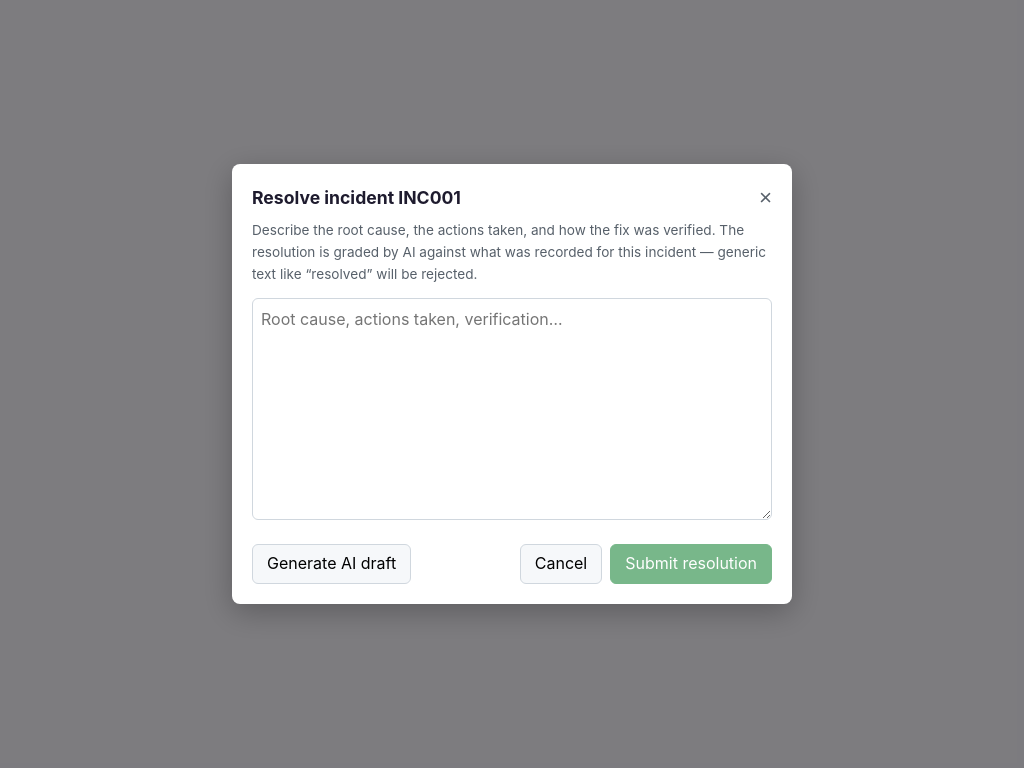
ResolutionModal › shows grade feedback and stays open when the resolution fails grading
In the text box named "Resolution text": point(512, 409) [252,298,772,520], type "resolved"
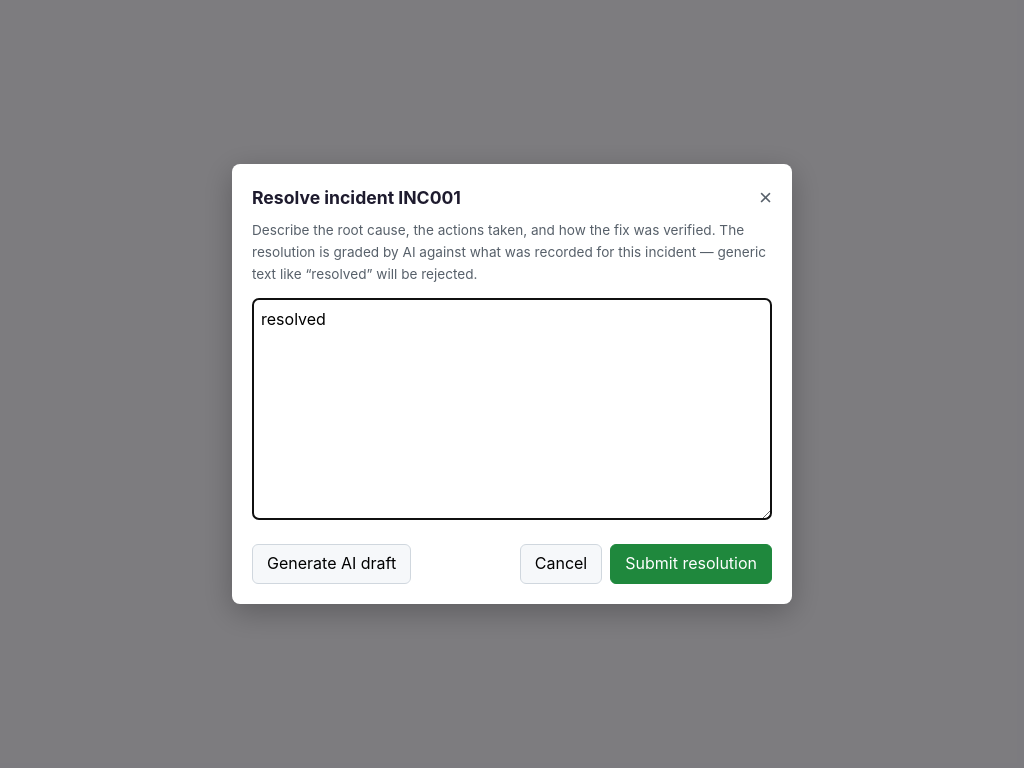
Click the button "Submit resolution": point(691, 564) [610,544,772,584]
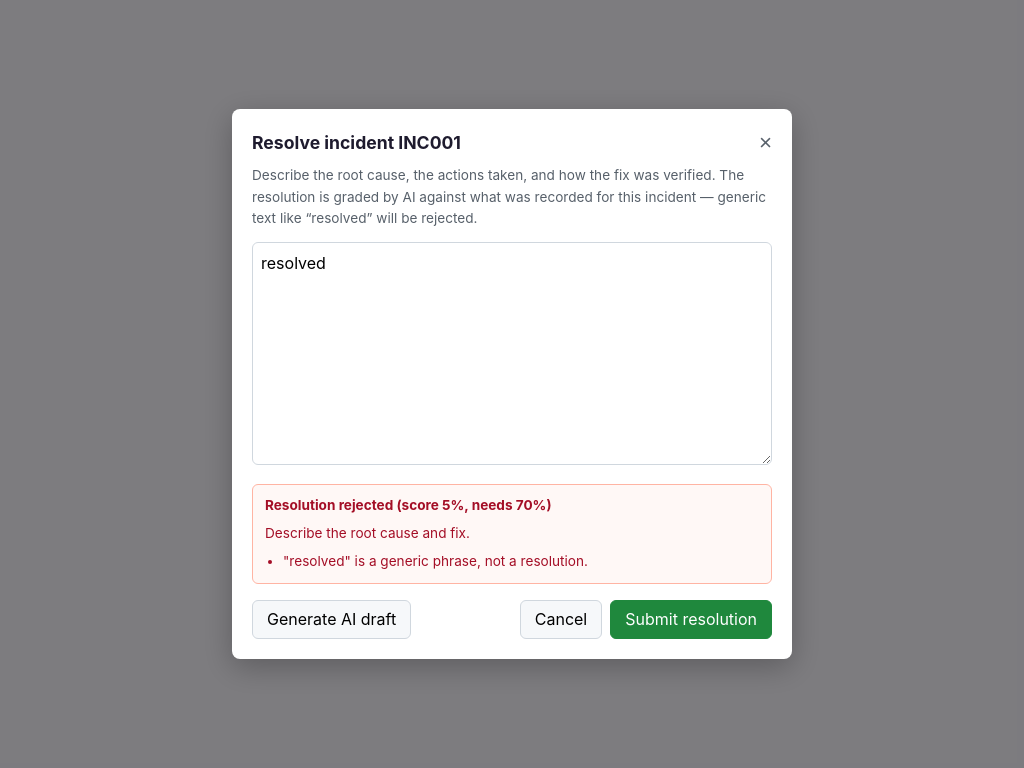
Check: the message shows "Resolution rejected", box [265,497,442,513]
Check: the text "Describe the root cause and fix." is shown, box [265,525,470,541]
